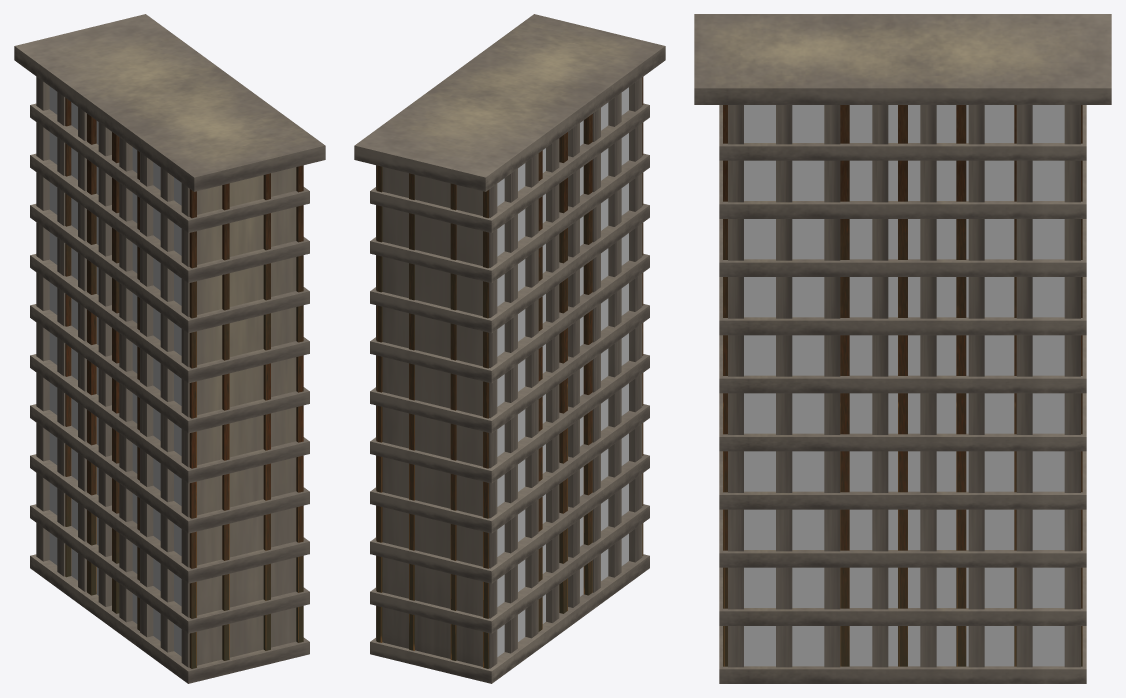
Rendered from Old High Building 1.fbx.
The picture shows the model from 3 angles, left to right: view 1: azimuth 30°, elevation 25°; view 2: azimuth 150°, elevation 25°; view 3: azimuth 270°, elevation 25°; orthographic projection. The views are drawn at different scales.
Visible parts, largest first — view 1: thanh cua rir sets .068, thanh cua rir sets .064, thanh cua rir sets .063, thanh cua rir sets .048, Kinh 2.003; view 2: thanh cua rir sets .068, thanh cua rir sets .064, thanh cua rir sets .063, thanh cua rir sets .048, Kinh 2.003; view 3: Kinh 2.002, thanh cua rir sets .064, thanh cua rir sets .068, thanh cua rir sets .063, thanh cua rir sets .048.
Boxes of the visible parts, bbox=[...] form: thanh cua rir sets .068: bbox=[36, 76, 296, 667]; thanh cua rir sets .064: bbox=[30, 103, 309, 683]; thanh cua rir sets .063: bbox=[14, 14, 325, 191]; thanh cua rir sets .048: bbox=[65, 98, 303, 668]; Kinh 2.003: bbox=[49, 86, 181, 656]; thanh cua rir sets .068: bbox=[376, 78, 642, 668]; thanh cua rir sets .064: bbox=[370, 103, 649, 683]; thanh cua rir sets .063: bbox=[354, 14, 665, 191]; thanh cua rir sets .048: bbox=[376, 77, 643, 668]; Kinh 2.003: bbox=[497, 87, 628, 656]; Kinh 2.002: bbox=[744, 105, 1064, 666]; thanh cua rir sets .064: bbox=[719, 105, 1086, 683]; thanh cua rir sets .068: bbox=[728, 105, 1080, 667]; thanh cua rir sets .063: bbox=[694, 14, 1111, 104]; thanh cua rir sets .048: bbox=[723, 105, 1082, 666].
Bounding box in the file's own units: 637 × 2391 × 1511.
